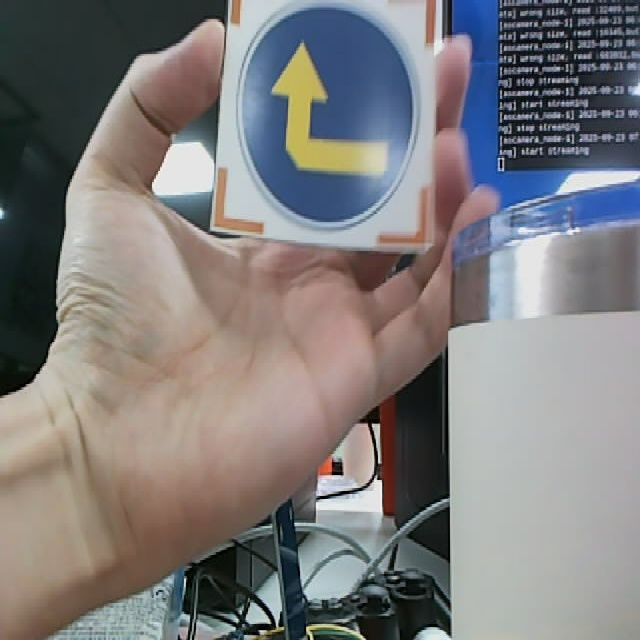right: (204, 1, 441, 251)
